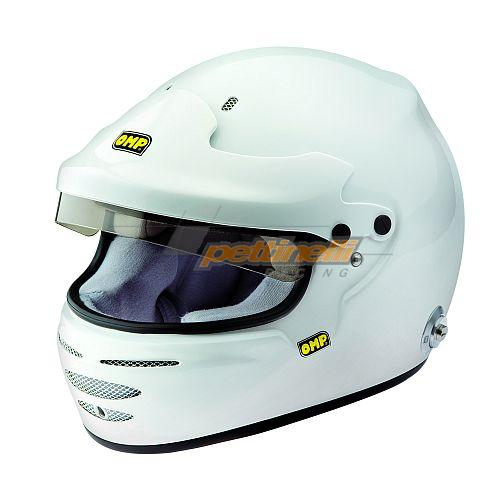helmet: (52, 49, 457, 423)
